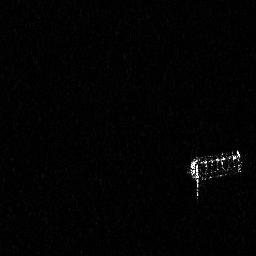ship: (186, 147, 244, 202)
